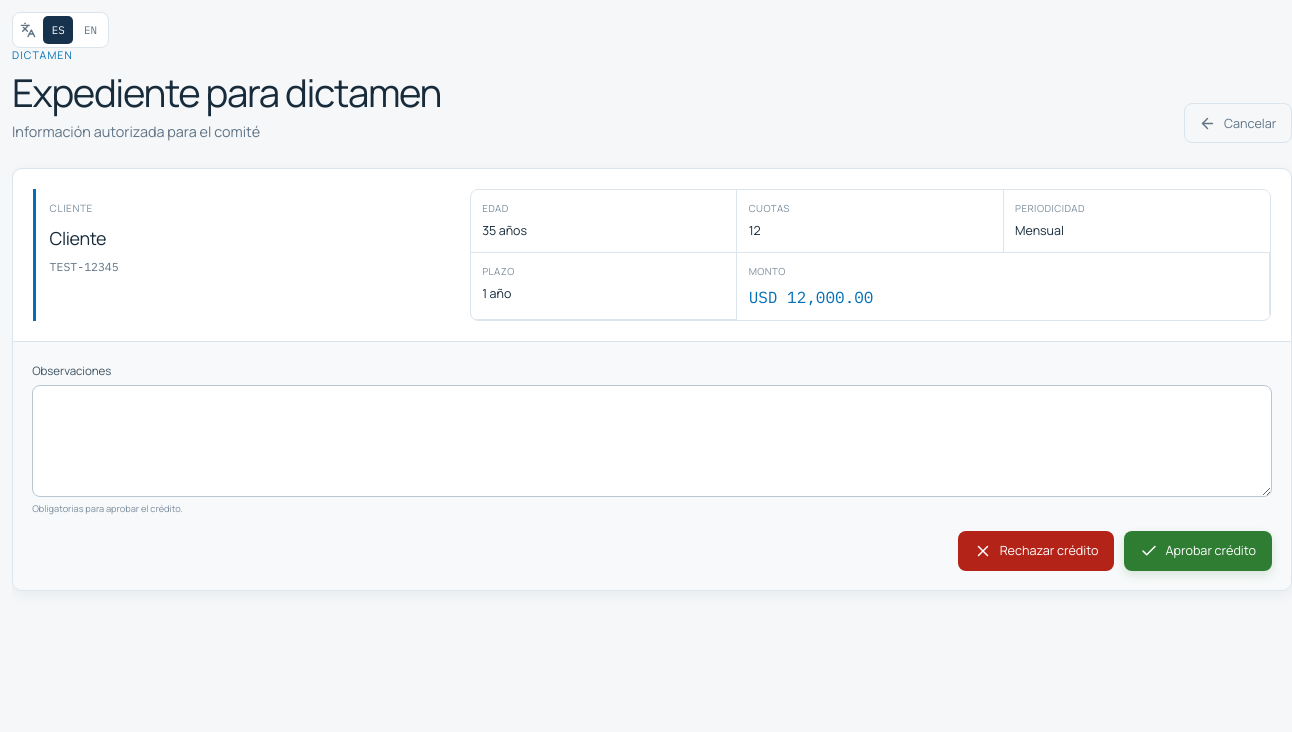
validation errors clear after correction › clears required observations before approval confirmation
Click the button "Aprobar crédito" at (1198, 550), box left=1124, top=530, right=1272, bottom=570
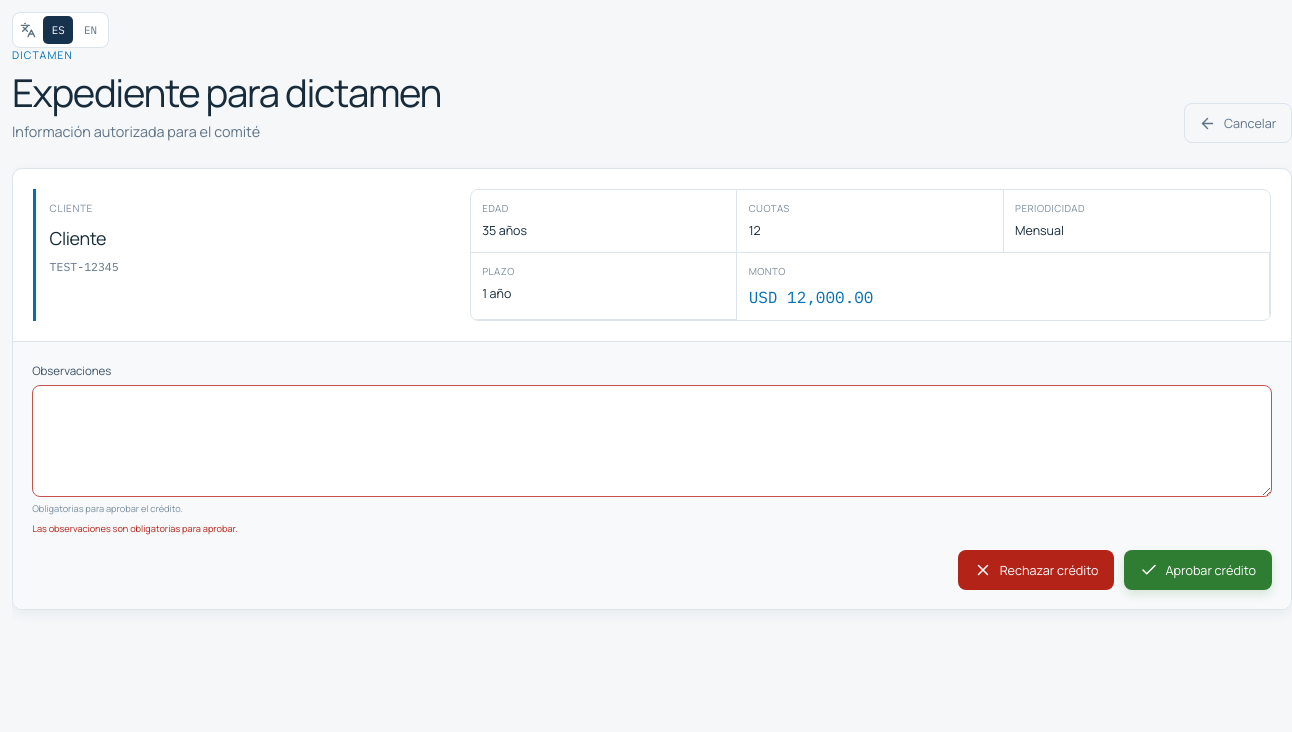
Now the text "Las observaciones son obligatorias para aprobar." is shown, box left=32, top=522, right=238, bottom=535
Click the button "EN" at (91, 30), box left=76, top=16, right=106, bottom=44
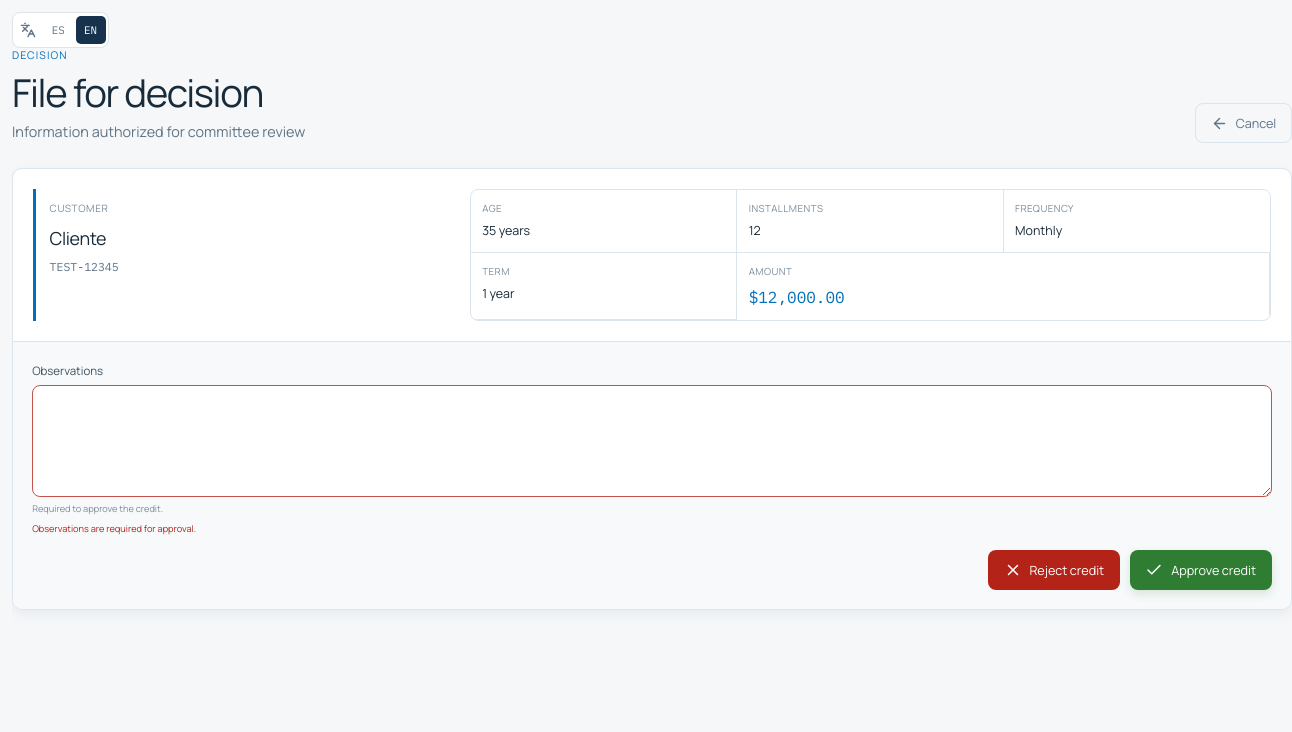
Now the text "Observations are required for approval." is shown, box left=32, top=522, right=196, bottom=535
Click the button "ES" at (58, 30), box left=43, top=16, right=73, bottom=44
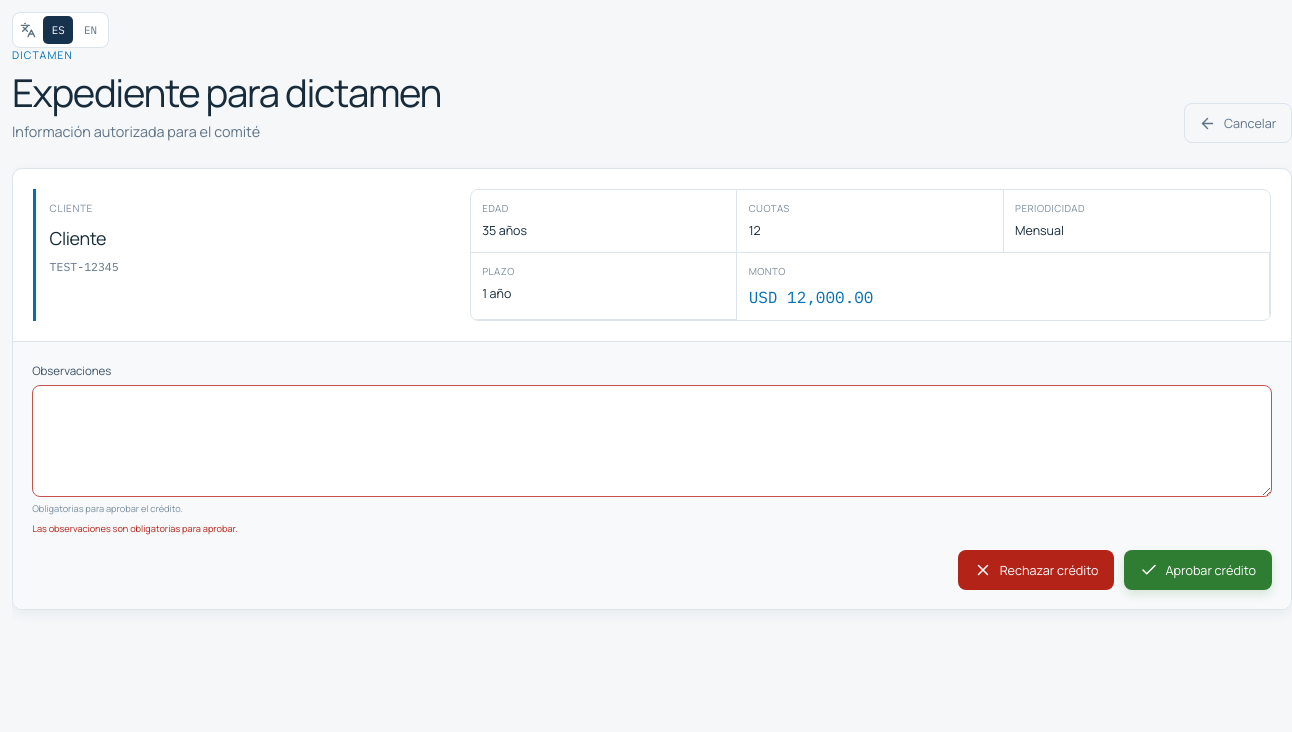
Type "Revisión completada" into the text box labelled "Observaciones" at (652, 440), box left=32, top=384, right=1272, bottom=496
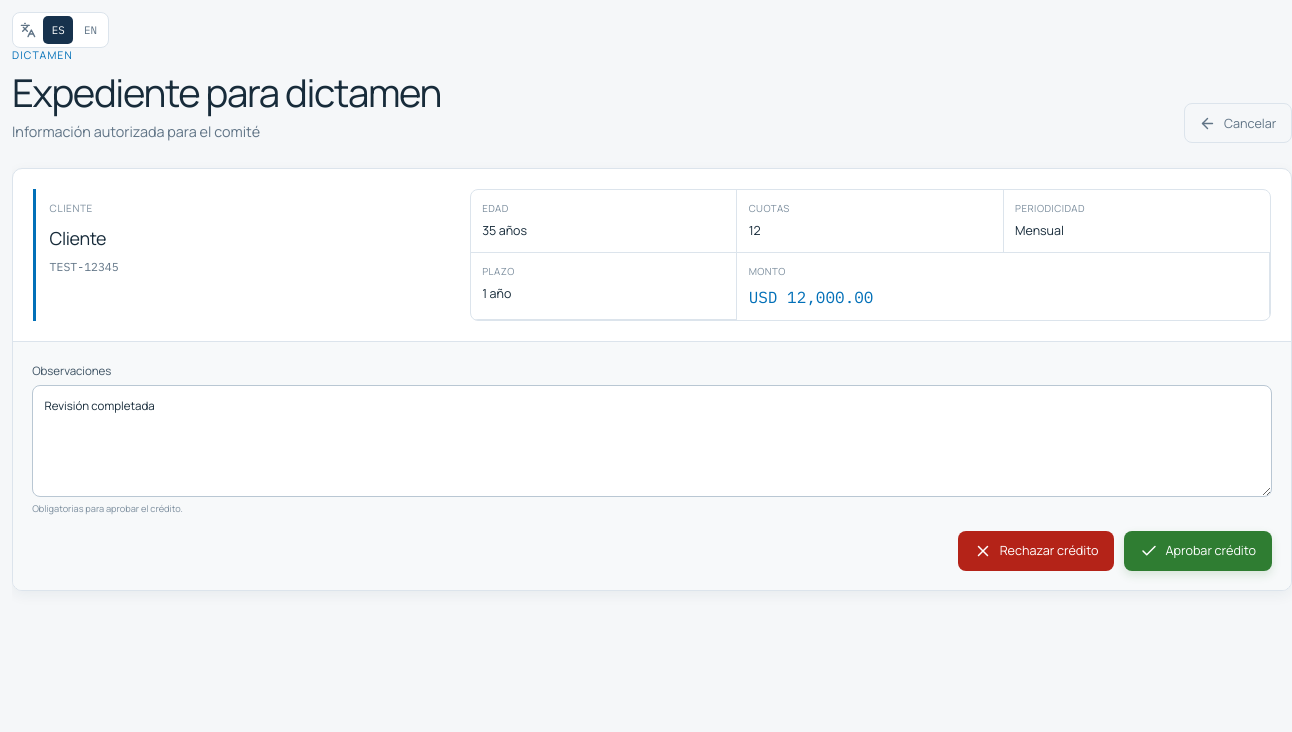
Now the text "Las observaciones son obligatorias para aprobar." is gone
